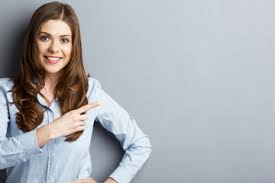hand: (45, 100, 105, 143)
